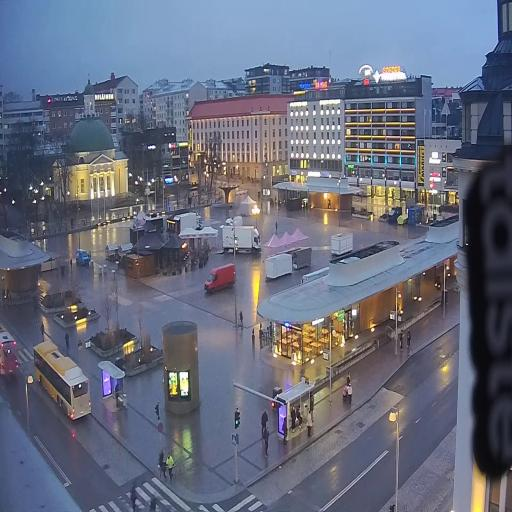bus: (32, 336, 94, 426), (0, 315, 20, 381)
delivery: (217, 224, 266, 261), (203, 259, 238, 300), (171, 208, 205, 236), (74, 245, 95, 274), (222, 212, 244, 230)
